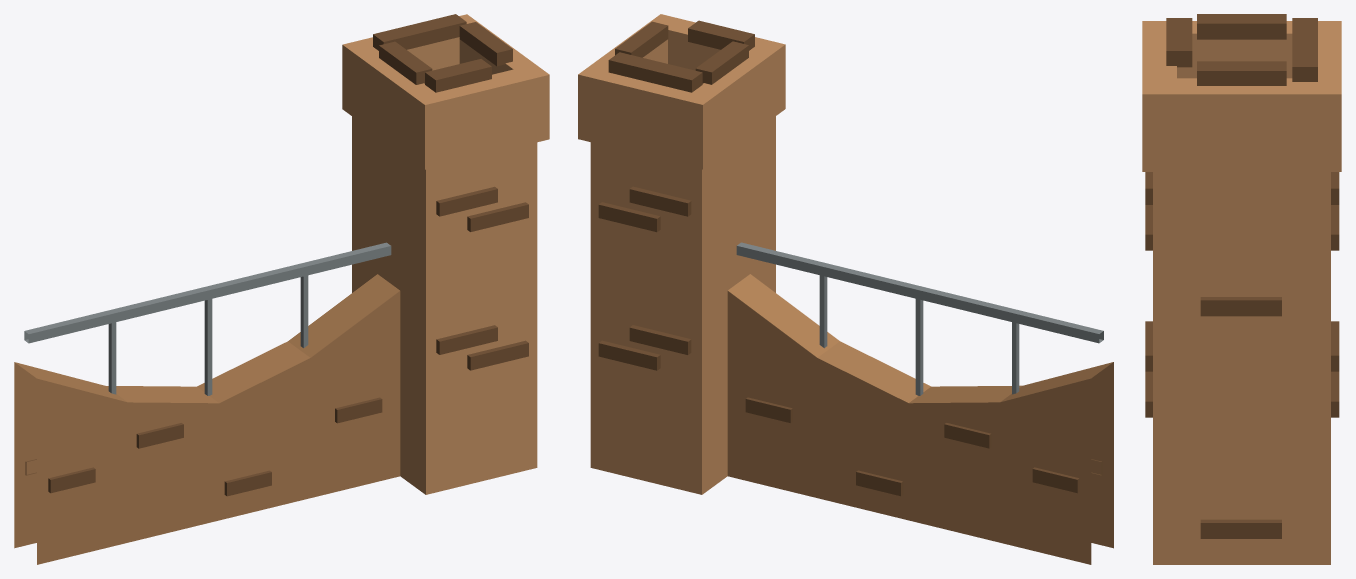
Rendered from Park_Fence_A.fbx.
3 renders of one model, left to right at view 1: azimuth 30°, elevation 25°; view 2: azimuth 150°, elevation 25°; view 3: azimuth 270°, elevation 25°, orthographic. The views are drawn at different scales.
Parts seen in each view (by area): view 1: Park_Fence_A; view 2: Park_Fence_A; view 3: Park_Fence_A.
Part boxes in pixels (box(x1,y1,x2,y2)): Park_Fence_A: box(14, 14, 549, 564); Park_Fence_A: box(578, 14, 1113, 564); Park_Fence_A: box(1142, 14, 1341, 564).
Size of the model in its own units: 219 by 176 by 64.95.
